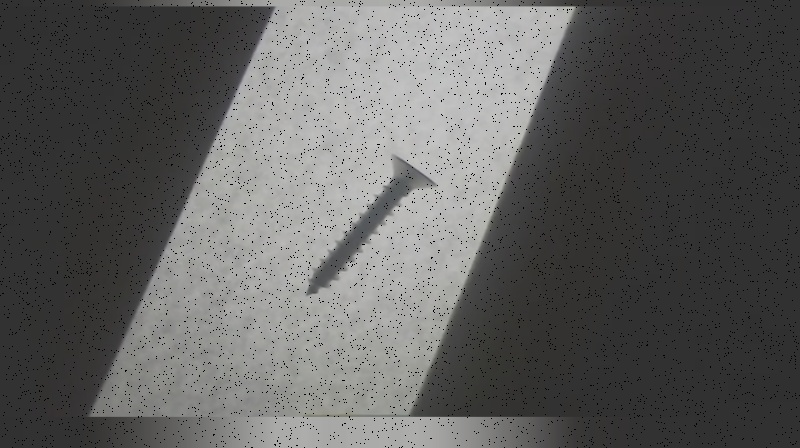S001: (301, 151, 442, 301)
